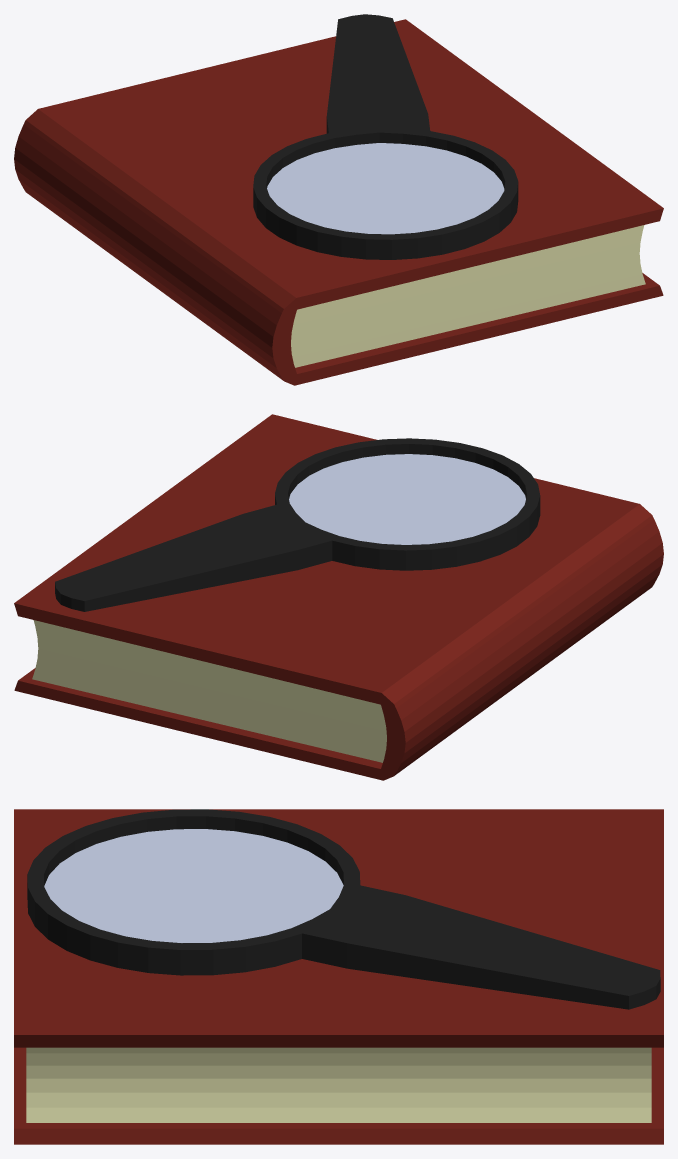
The model's file is filo_teo_etc.fbx.
3 renders of one model, top to bottom at view 1: azimuth 30°, elevation 25°; view 2: azimuth 150°, elevation 25°; view 3: azimuth 270°, elevation 25°, orthographic. The views are drawn at different scales.
Visible parts, largest first — view 1: libro, lupa; view 2: libro, lupa; view 3: libro, lupa.
Boxes of the visible parts, x1,y1,x2,y2 form: libro: (14,19,663,385); lupa: (253,14,518,259); libro: (14,414,663,780); lupa: (55,438,540,611); libro: (14,809,663,1144); lupa: (27,809,660,1009).
Bounding box in the file's own units: 175 × 46.93 × 200.
